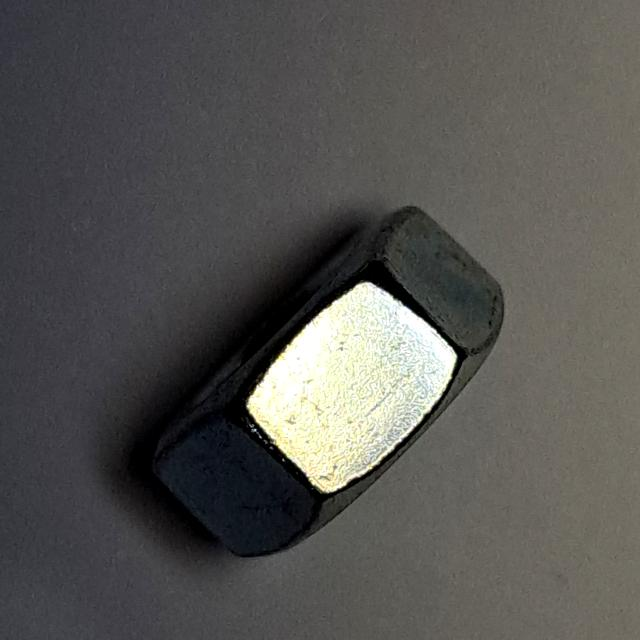Side_Excellent: (130, 192, 516, 570)
